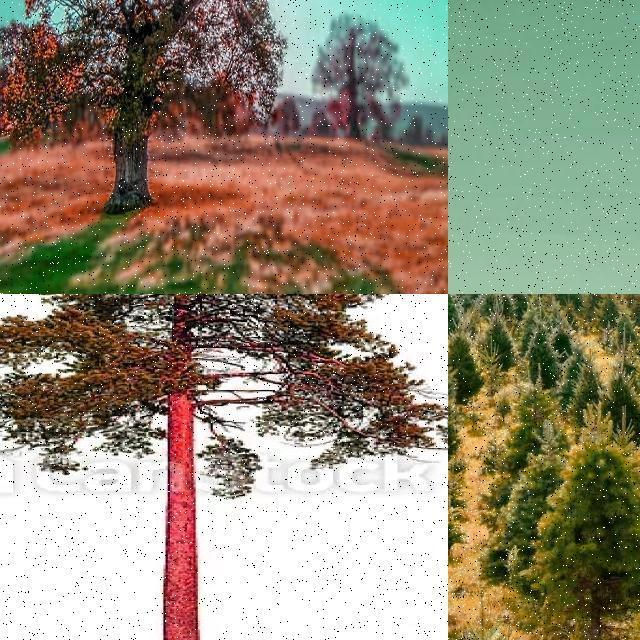tree: (0, 294, 448, 640), (2, 0, 288, 196), (539, 415, 640, 640), (312, 5, 416, 151), (448, 435, 518, 640), (502, 382, 562, 456), (476, 308, 520, 372), (448, 374, 476, 466), (604, 368, 640, 439), (448, 328, 480, 404), (521, 321, 559, 385), (568, 358, 604, 418), (448, 343, 476, 413), (448, 366, 468, 446), (448, 310, 468, 388), (448, 311, 468, 373), (592, 294, 630, 322), (596, 294, 620, 334), (448, 294, 464, 330), (448, 294, 468, 322), (448, 294, 459, 318)
